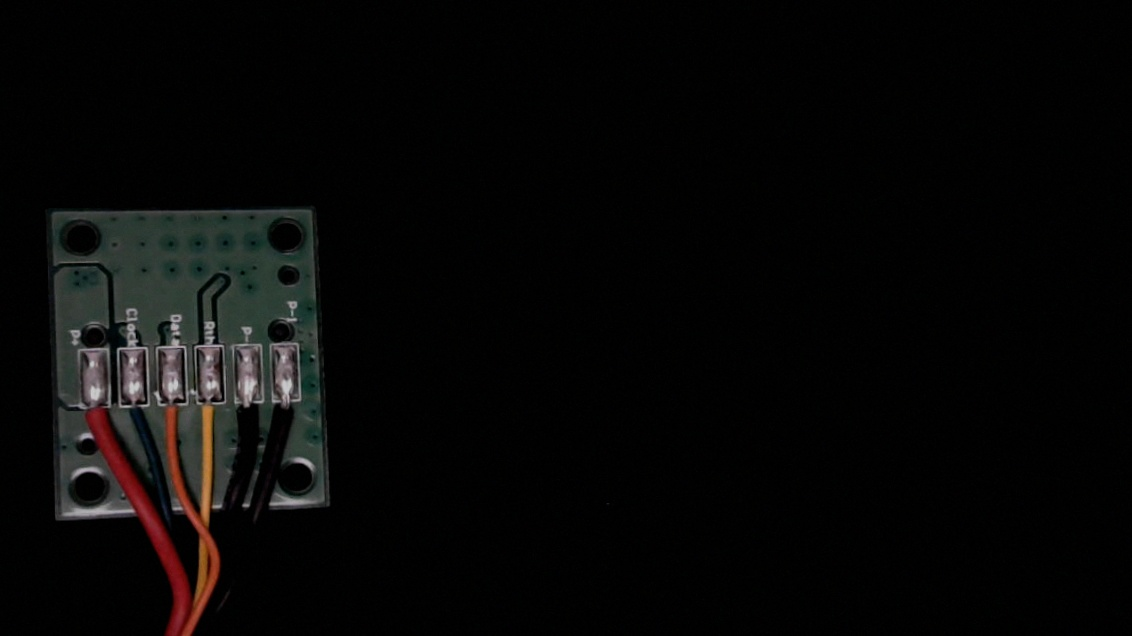Black: (234, 388, 264, 447)
Black1: (271, 388, 303, 449)
Green: (117, 391, 150, 444)
Orange: (156, 390, 186, 446)
Red: (77, 393, 111, 457)
Yellow: (195, 390, 228, 447)
